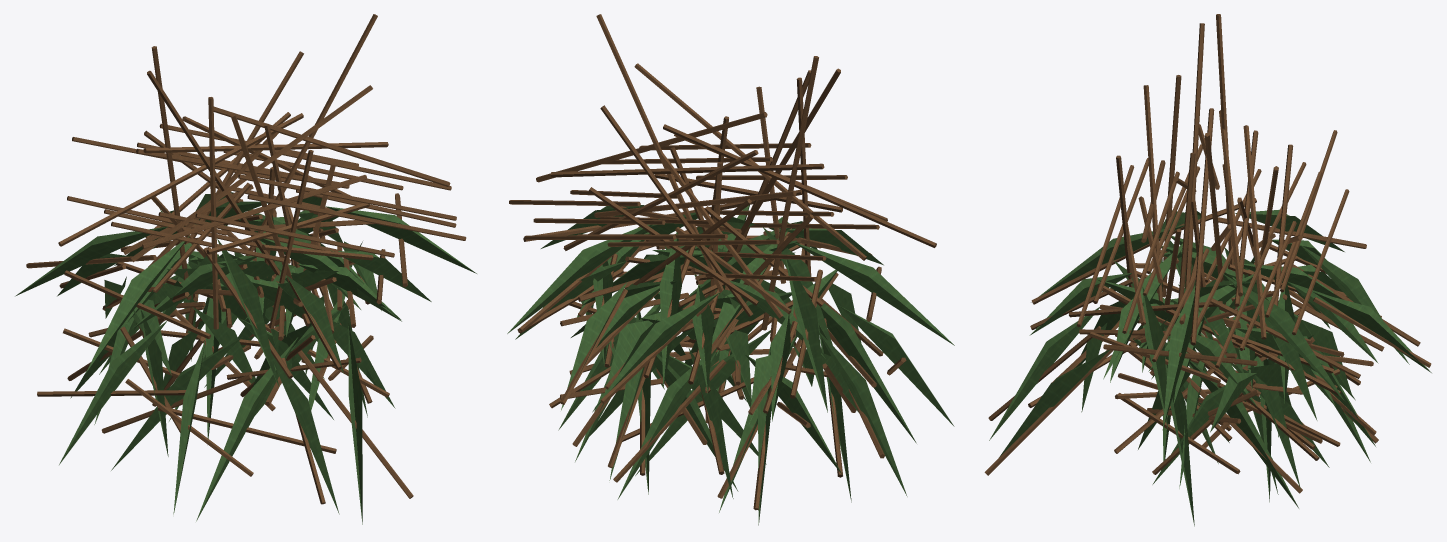
File: en-013_cliff_edge_grass_set__dense.obj
3 renders of one model, left to right at view 1: azimuth 30°, elevation 25°; view 2: azimuth 150°, elevation 25°; view 3: azimuth 270°, elevation 25°, orthographic. The views are drawn at different scales.
Visible parts, largest first — view 1: en-013_cliff_edge_grass_set__dense; view 2: en-013_cliff_edge_grass_set__dense; view 3: en-013_cliff_edge_grass_set__dense.
Part boxes in pixels (x1=…): en-013_cliff_edge_grass_set__dense: x1=15, y1=14, x2=476, y2=524; en-013_cliff_edge_grass_set__dense: x1=507, y1=14, x2=954, y2=525; en-013_cliff_edge_grass_set__dense: x1=984, y1=14, x2=1431, y2=526.
Bounding box in the file's own units: 1.18 × 1.17 × 1.16.
2 materials, 2 textured.
